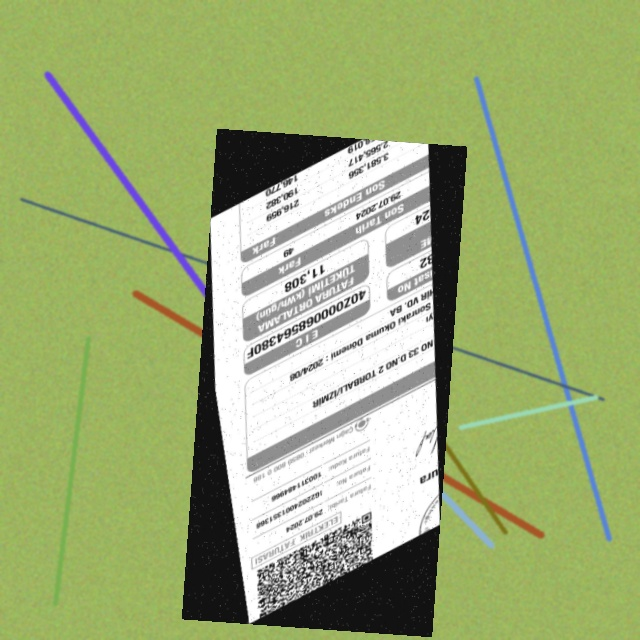electricity-bill: (182, 128, 466, 636)
